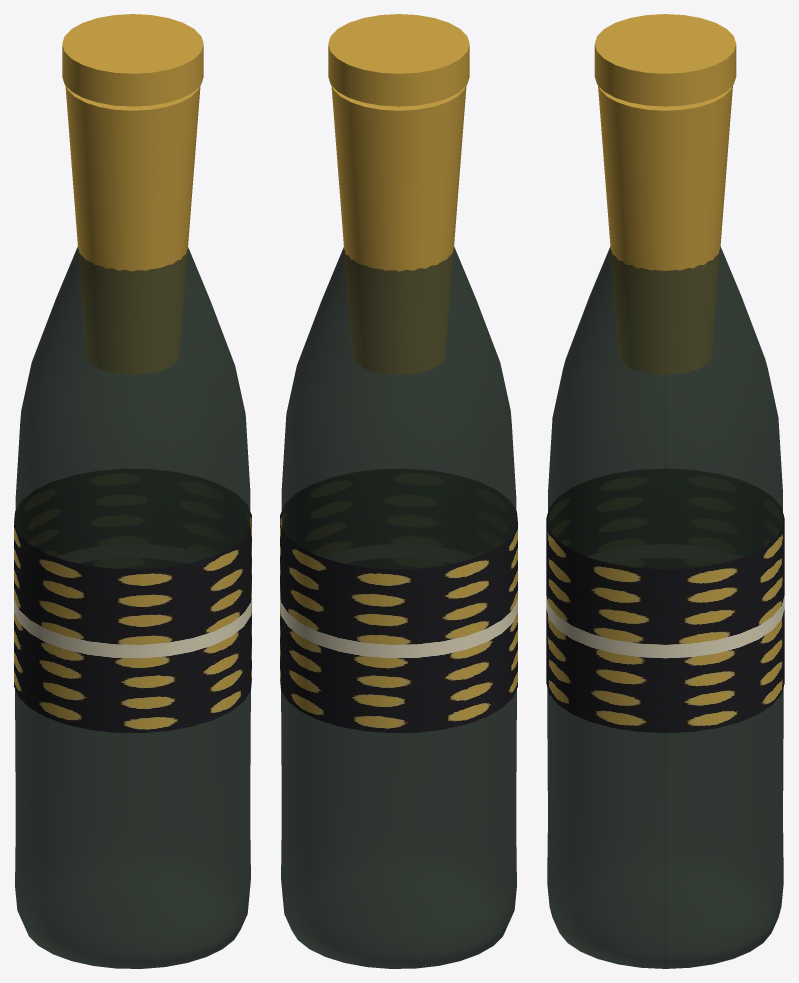
File: bottle_champagne_foil.glb
3 renders of one model, left to right at view 1: azimuth 30°, elevation 25°; view 2: azimuth 150°, elevation 25°; view 3: azimuth 270°, elevation 25°, orthographic.
Visible parts, largest first — view 1: bottle_champagne_foil; view 2: bottle_champagne_foil; view 3: bottle_champagne_foil.
Boxes of the visible parts, x1,y1,x2,y2 form: bottle_champagne_foil: (14,14,251,968); bottle_champagne_foil: (280,14,517,968); bottle_champagne_foil: (546,14,784,968).
Size of the model in its own units: 0.0792 by 0.3245 by 0.0792.
3 materials, 1 textured.
